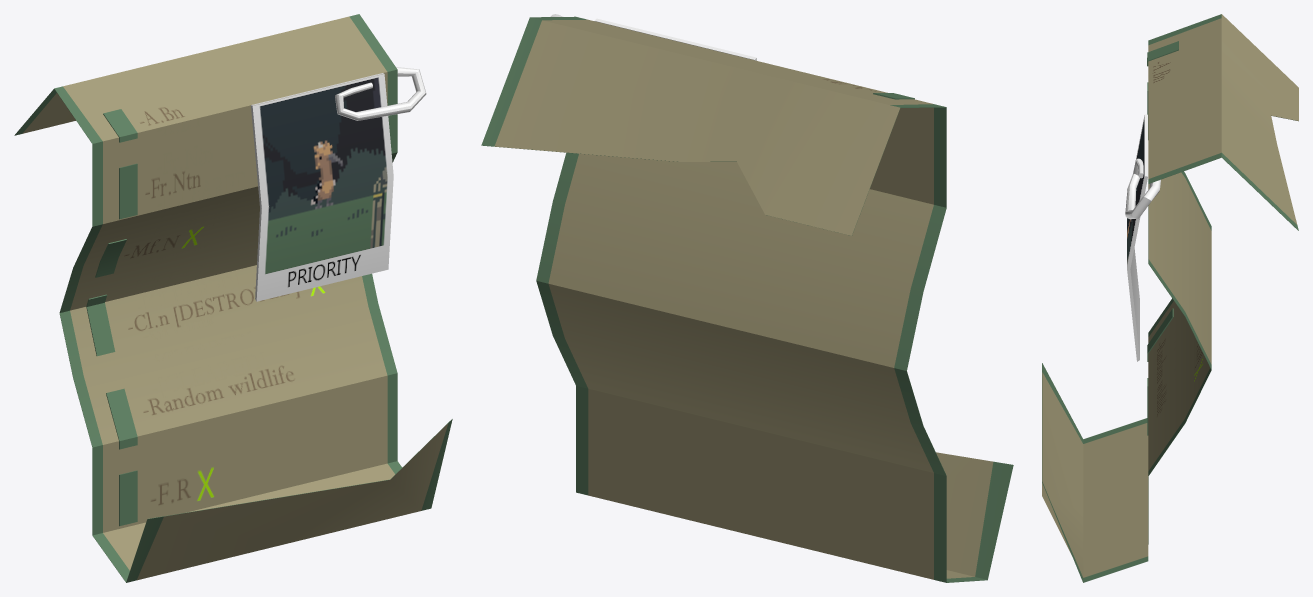
The model's file is HitList.fbx.
The picture shows the model from 3 angles, left to right: view 1: azimuth 30°, elevation 25°; view 2: azimuth 150°, elevation 25°; view 3: azimuth 270°, elevation 25°; orthographic projection. The views are drawn at different scales.
Parts seen in each view (by area): view 1: Cube; view 2: Cube; view 3: Cube.
Part boxes in pixels (box(x1,y1,x2,y2)): Cube: box(14, 14, 452, 582); Cube: box(481, 14, 1013, 582); Cube: box(1042, 14, 1298, 582).
Bounding box in the file's own units: 112 × 145 × 79.44.
